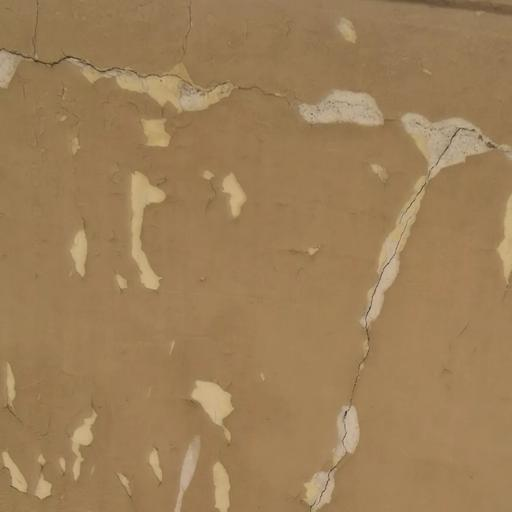peeling: (0, 22, 512, 363), (0, 324, 386, 512)
